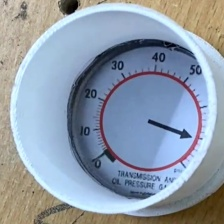gauge: (67, 41, 209, 197)
